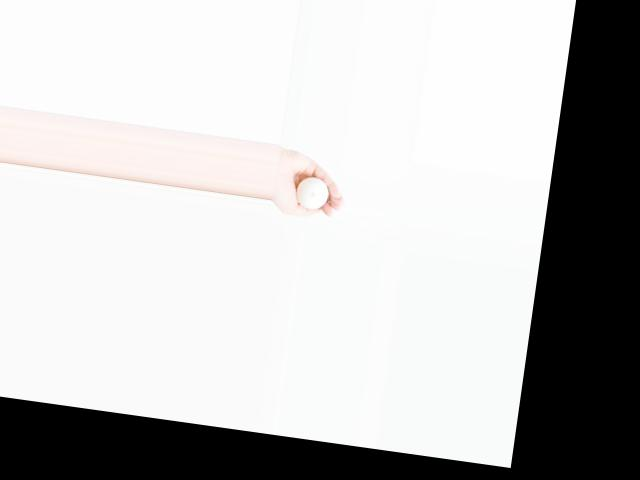egg: (295, 175, 330, 210)
